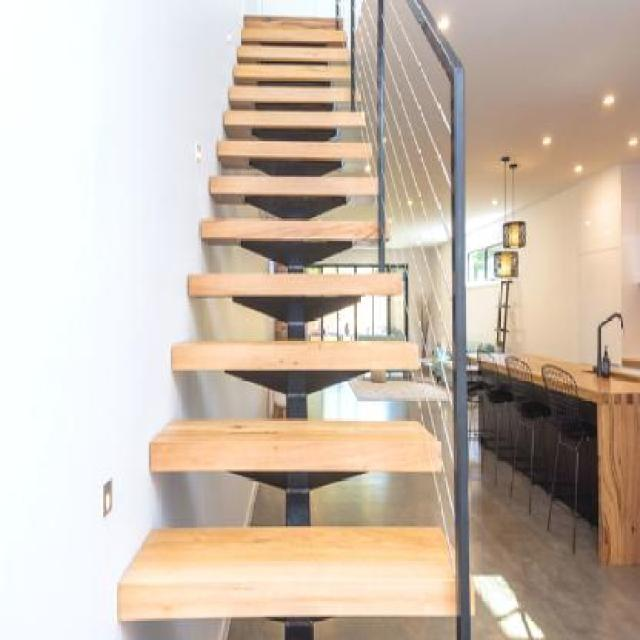stair: (110, 3, 502, 628)
